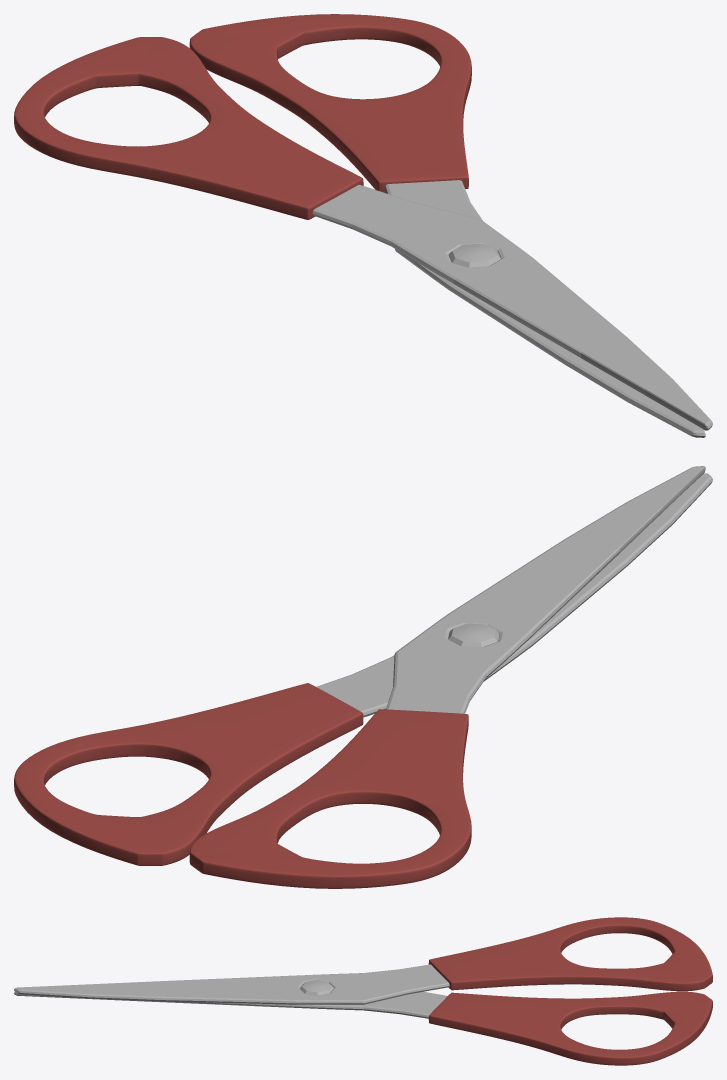
File: Scissor.fbx
3 renders of one model, top to bottom at view 1: azimuth 30°, elevation 25°; view 2: azimuth 150°, elevation 25°; view 3: azimuth 270°, elevation 25°, orthographic. The views are drawn at different scales.
Visible parts, largest first — view 1: Hendel01, Hendel02, Blade01, Blade02, Schroef; view 2: Hendel02, Hendel01, Blade01, Blade02, Schroef; view 3: Hendel02, Hendel01, Blade01, Blade02, Schroef.
Part boxes in pixels (x1,y1,x2,y2): Hendel01: (14,37,363,219); Hendel02: (189,14,471,192); Blade01: (312,185,712,430); Blade02: (384,180,705,437); Schroef: (448,243,500,267); Hendel02: (14,683,363,865); Hendel01: (189,709,471,888); Blade01: (386,466,705,713); Blade02: (316,473,712,717); Schroef: (448,623,499,646); Hendel02: (428,991,712,1065); Hendel01: (428,917,712,991); Blade01: (14,964,449,1004); Blade02: (14,991,447,1018); Schroef: (299,980,333,995).
Size of the model in its own units: 32.42 by 1.59 by 70.62.
